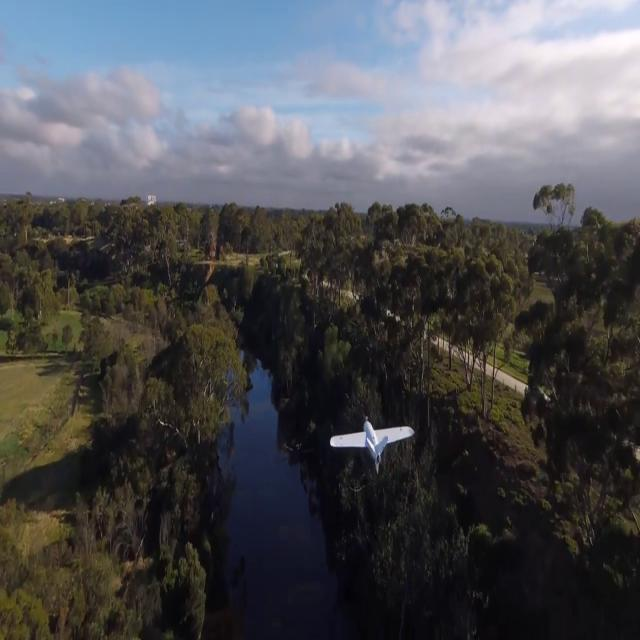iha: (356, 418, 386, 470)
